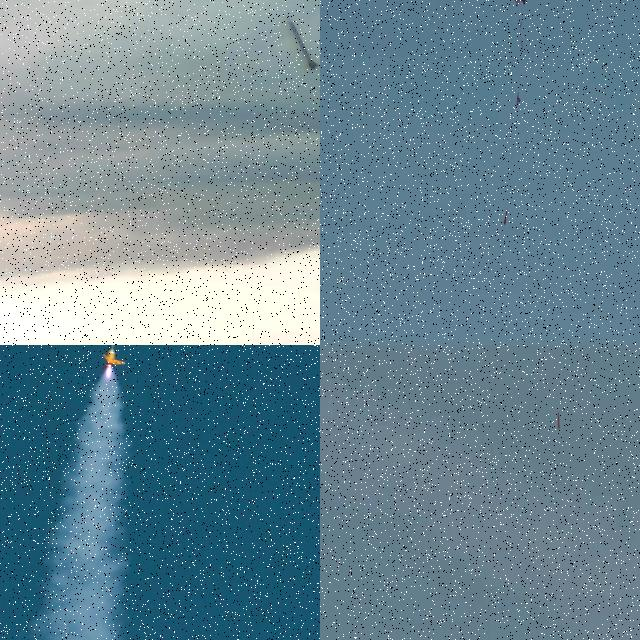Rocket: (285, 13, 320, 70), (100, 345, 125, 369), (503, 209, 508, 225), (557, 410, 560, 429)
